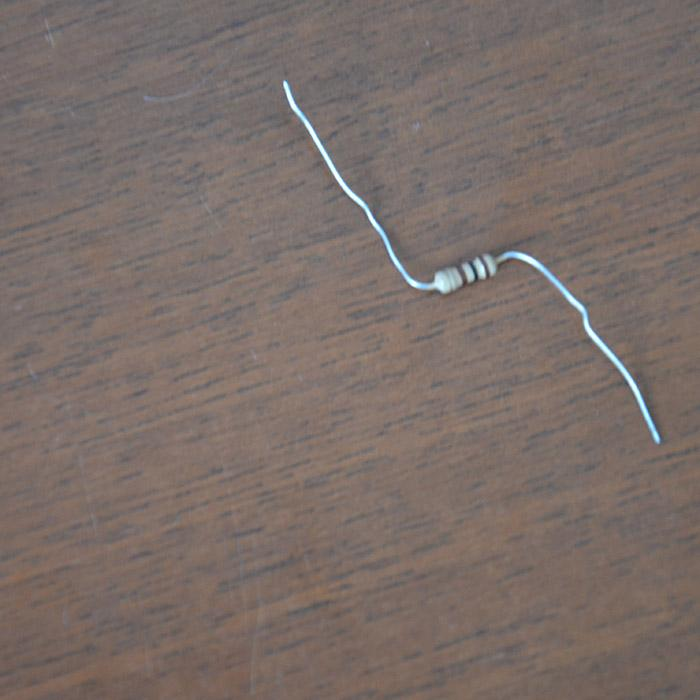resistor: (433, 251, 498, 295)
